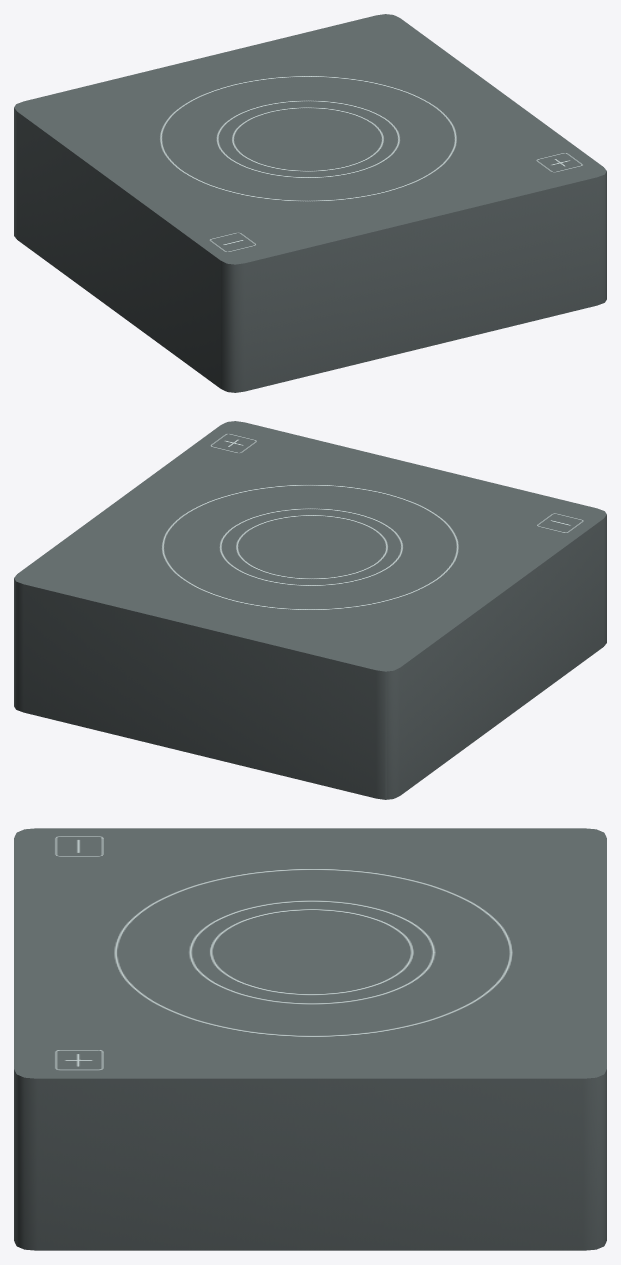
File: Asset_Utensil_InductionCooker.FBX
3 renders of one model, top to bottom at view 1: azimuth 30°, elevation 25°; view 2: azimuth 150°, elevation 25°; view 3: azimuth 270°, elevation 25°, orthographic. The views are drawn at different scales.
Parts seen in each view (by area): view 1: Box004; view 2: Box004; view 3: Box004.
Part boxes in pixels (left/top/right/bottom): Box004: left=14, top=14, right=606, bottom=392; Box004: left=14, top=421, right=606, bottom=799; Box004: left=14, top=828, right=606, bottom=1250.
Size of the model in its own units: 28.87 by 9.57 by 28.87.
Materials: 1 (1 with a texture image).
